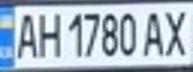0: (118, 8, 142, 57)
1: (63, 8, 84, 57)
7: (81, 8, 100, 57)
8: (100, 9, 121, 57)
A: (9, 9, 39, 60), (139, 7, 169, 57)
H: (33, 8, 63, 59)
X: (160, 6, 193, 57)
